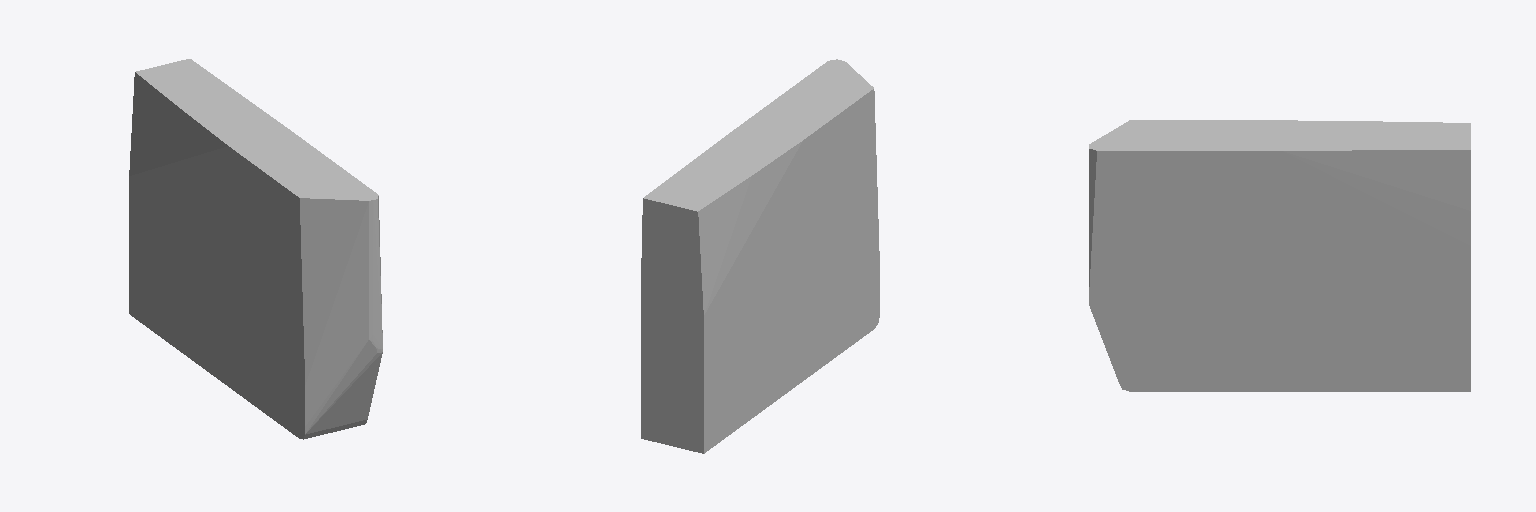
The model's file is Toaster_24_collision_14.obj.
3 views of the same model, side by side, from view 1: azimuth 30°, elevation 25°; view 2: azimuth 150°, elevation 25°; view 3: azimuth 270°, elevation 25° (orthographic).
Size of the model in its own units: 0.0288 by 0.1057 by 0.1518.